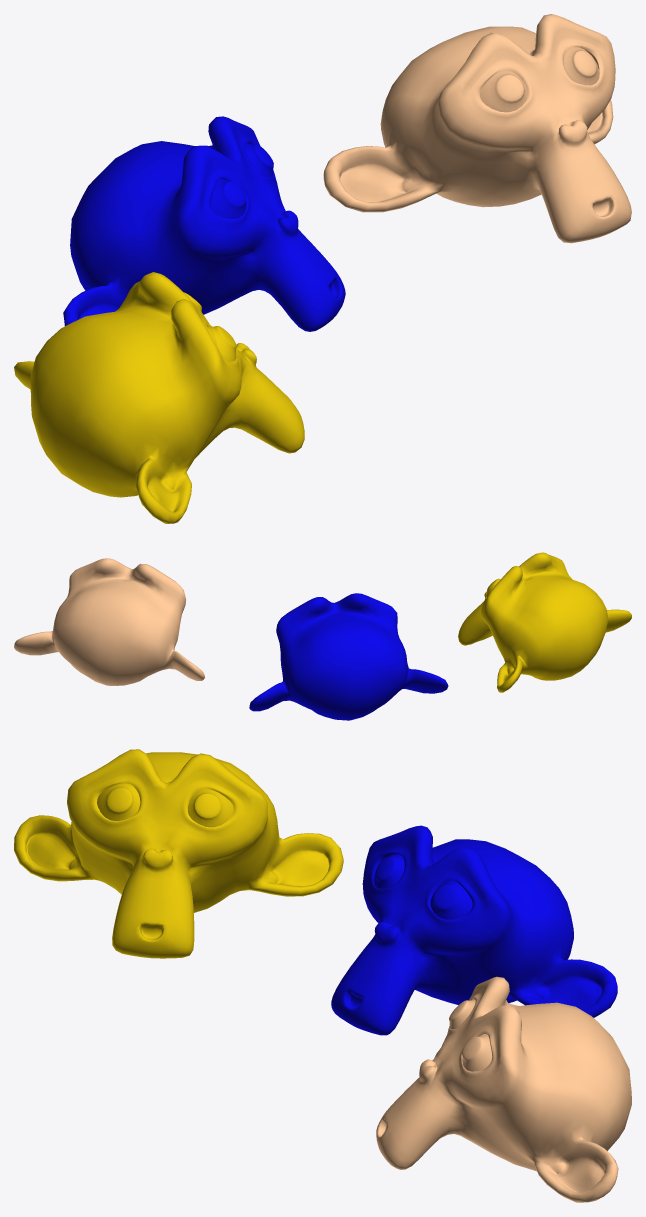
3 views of the same model, one above another, from view 1: azimuth 30°, elevation 25°; view 2: azimuth 150°, elevation 25°; view 3: azimuth 270°, elevation 25° (orthographic). The views are drawn at different scales.
Parts seen in each view (by area): view 1: Suzanne.001, Suzanne, Suzanne.002; view 2: Suzanne.002, Suzanne.001, Suzanne; view 3: Suzanne, Suzanne.002, Suzanne.001.
Part boxes in pixels (box(x1,y1,x2,y2)): Suzanne.001: box(323, 14, 631, 243); Suzanne: box(14, 272, 304, 523); Suzanne.002: box(63, 116, 345, 331); Suzanne.002: box(249, 593, 448, 720); Suzanne.001: box(14, 558, 204, 685); Suzanne: box(458, 552, 631, 692); Suzanne: box(14, 749, 343, 958); Suzanne.002: box(331, 825, 617, 1035); Suzanne.001: box(376, 976, 631, 1202).
Size of what is drawn, in the model's own units: 6.76 by 1.57 by 4.93.
